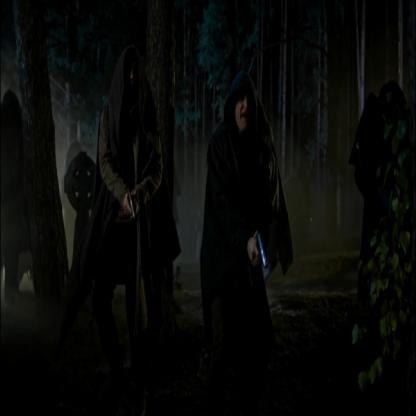Gun: (253, 228, 268, 268), (122, 185, 136, 222)
